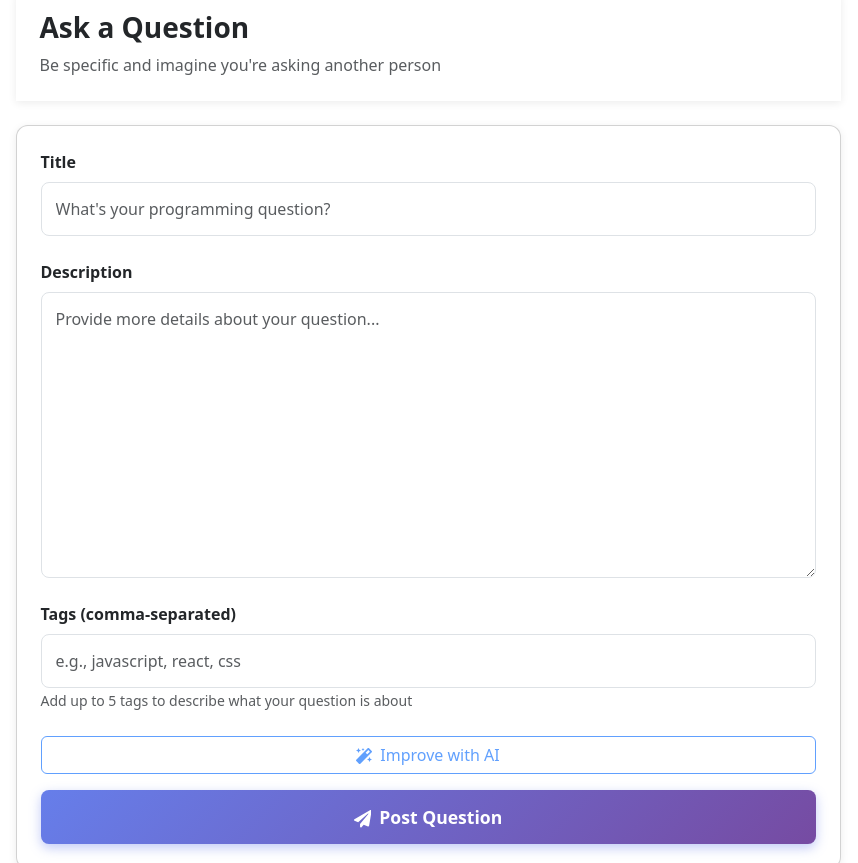
Test case: PostQuestion Page › AI question improver › accepting a suggestion replaces only that field and removes the suggestion
The width and height of the screenshot is (858, 863).
Type "my title" into the field with placeholder "What's your programming question?" at (428, 209), box [40,182,816,236]
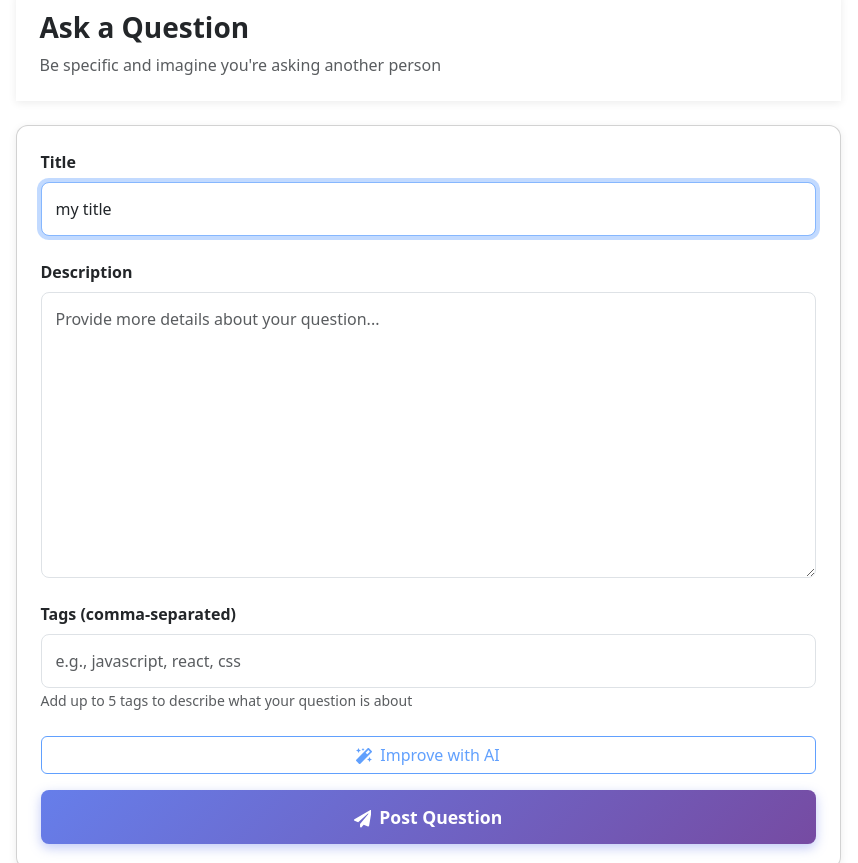
Type "my description" into the text box with placeholder "Provide more details about your question..." at (428, 435), box [40,292,816,578]
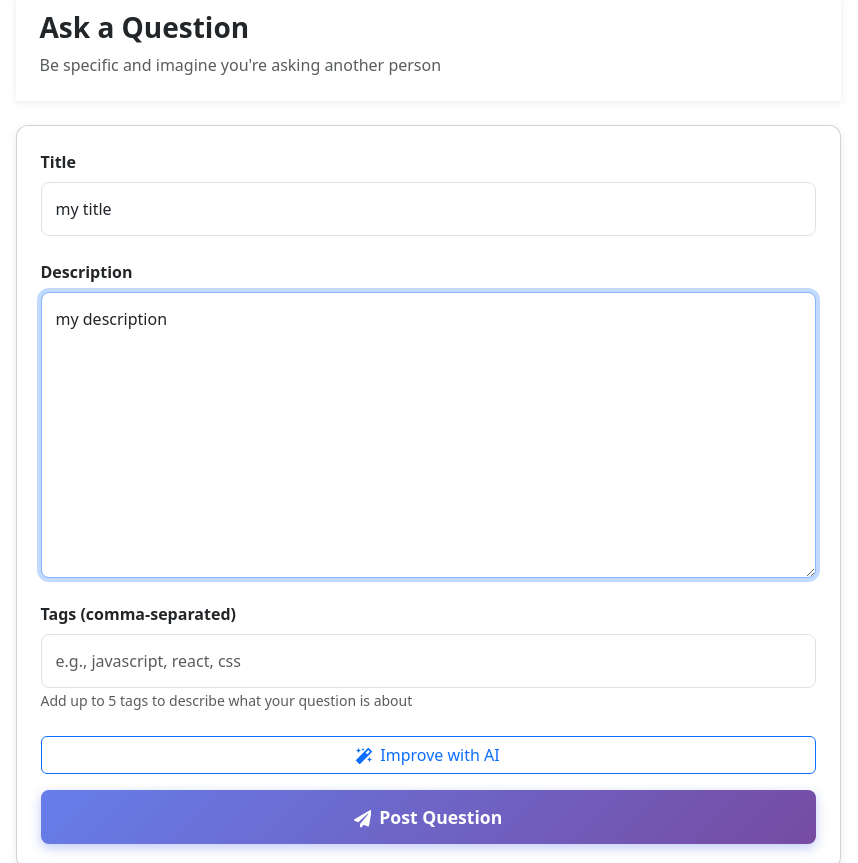
Type "js" into the field with placeholder "e.g., javascript, react, css" at (428, 660), box [40,634,816,688]
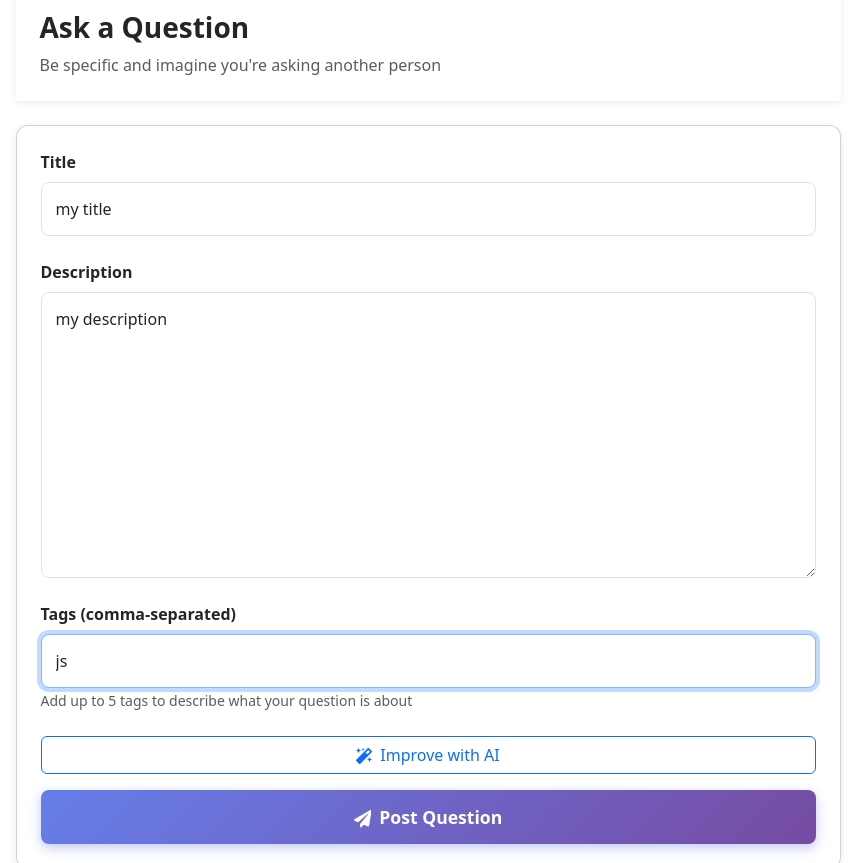
Click the button "Improve with AI" at (428, 754), box [40,736,816,774]
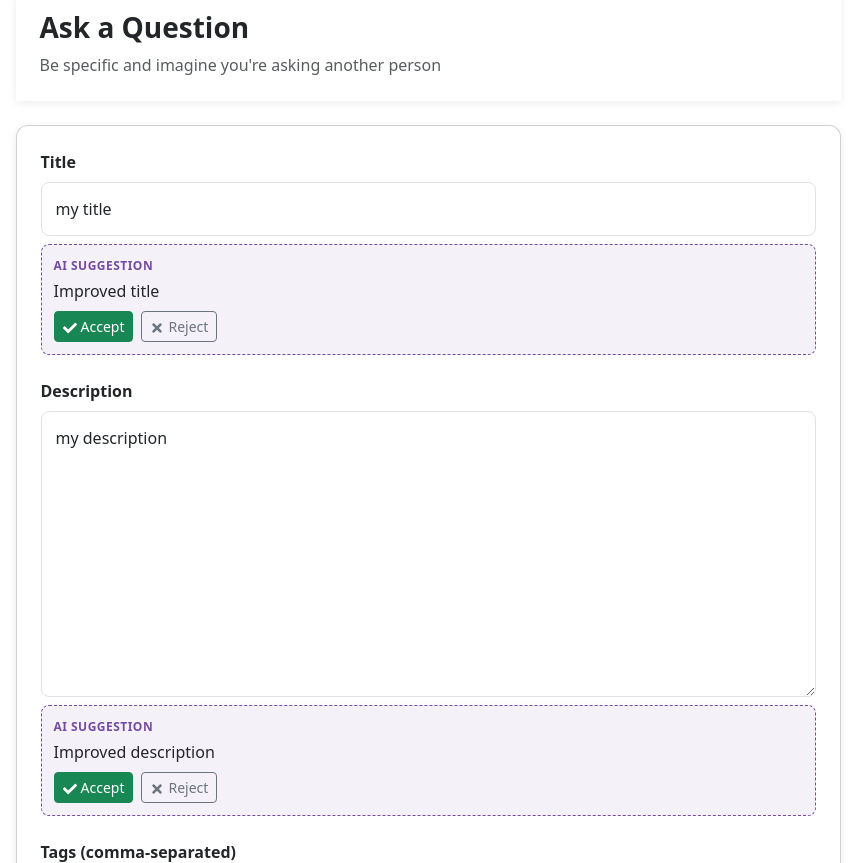
Now the text "Improved title" is shown, box [54,280,159,302]
Click the button with aria-label "accept title suggestion" at (94, 326), box [54,311,134,342]
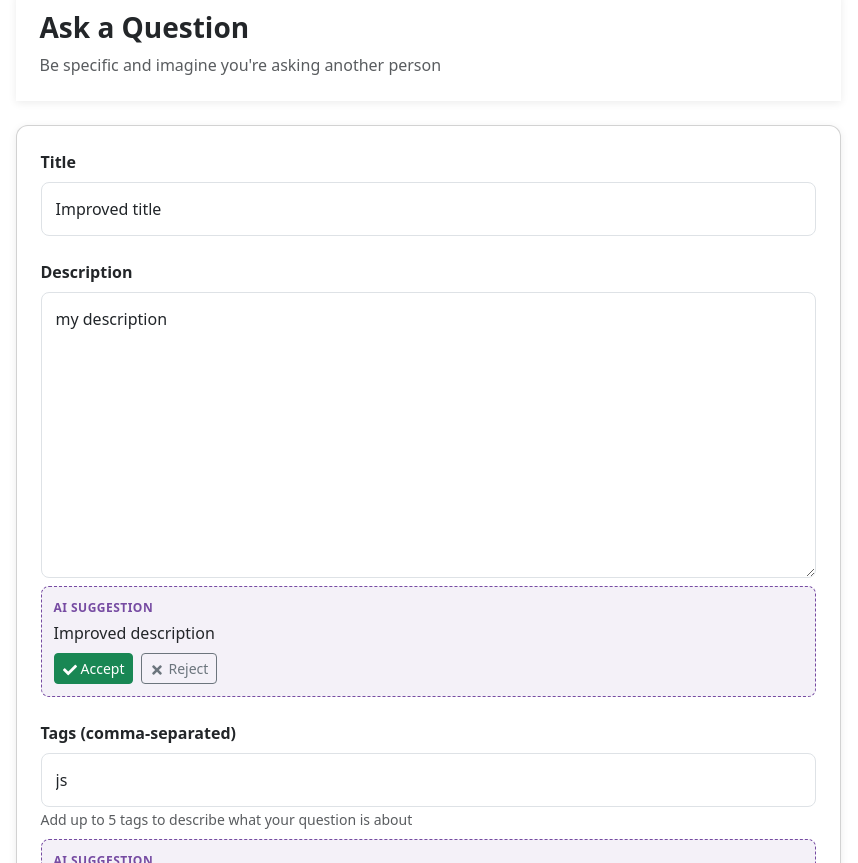
Now the text "Improved description" is shown, box [54,622,215,644]
Now the field with placeholder "What's your programming question?" holds "Improved title", box [40,182,816,236]
